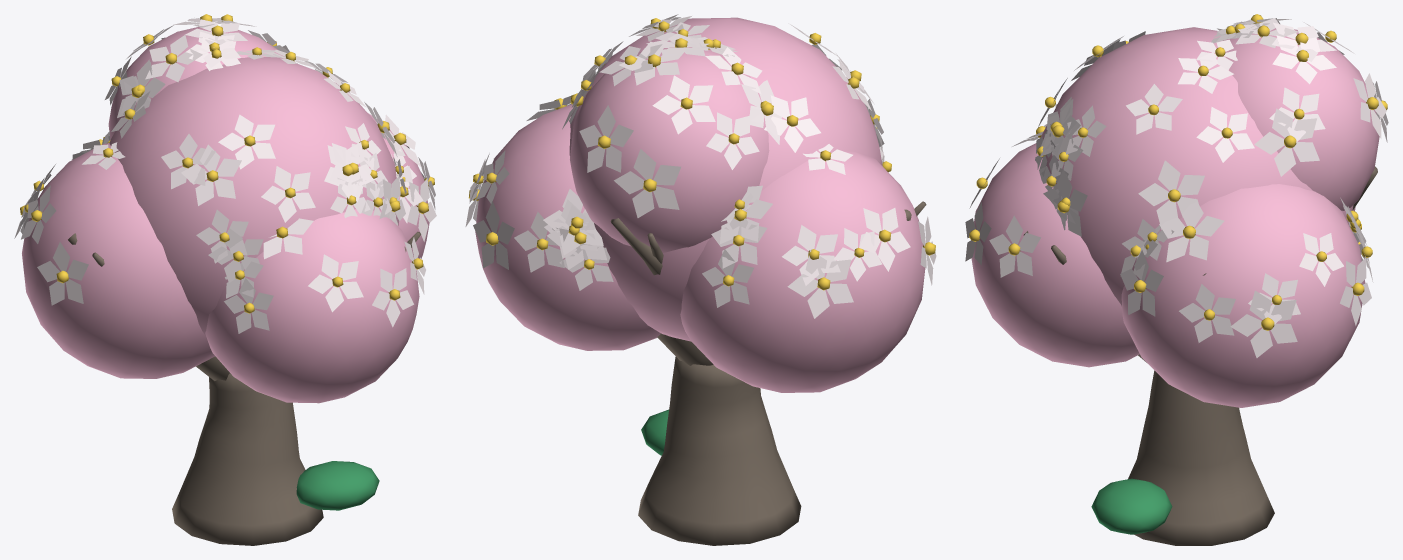
Rendered from orchard.glb.
3 renders of one model, left to right at view 1: azimuth 30°, elevation 25°; view 2: azimuth 150°, elevation 25°; view 3: azimuth 270°, elevation 25°, orthographic. The views are drawn at different scales.
Parts seen in each view (by area): view 1: Blossom, BareTrunk, BareBranches; view 2: Blossom, BareTrunk, BareBranches; view 3: Blossom, BareTrunk.
Boxes of the visible parts, x1,y1,x2,y2 form: Blossom: (14,14,436,403); BareTrunk: (172,373,379,545); BareBranches: (68,231,420,380); Blossom: (465,14,936,392); BareTrunk: (638,356,801,545); BareBranches: (610,201,926,365); Blossom: (965,14,1388,407); BareTrunk: (1091,370,1274,545).
Bounding box in the file's own units: 2.03 × 2.27 × 1.78.
